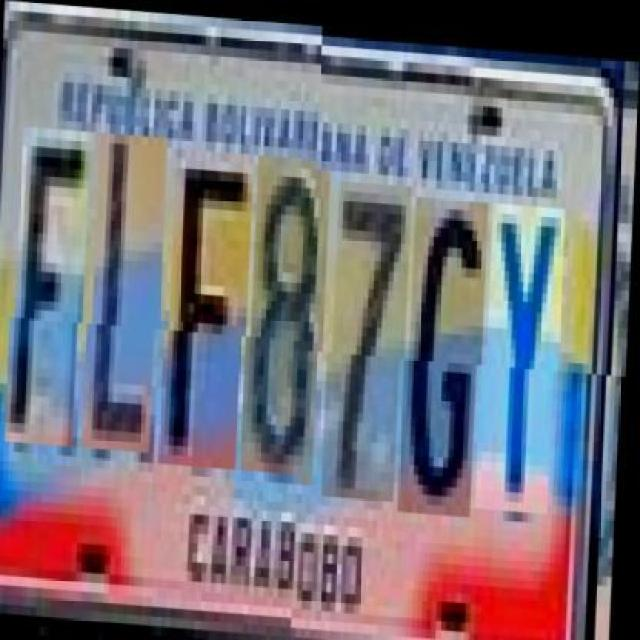7: (330, 175, 413, 496)
8: (250, 161, 332, 481)
f: (167, 156, 255, 476), (12, 136, 92, 456)
g: (407, 189, 490, 509)
l: (89, 141, 169, 461)
y: (484, 193, 567, 504)
